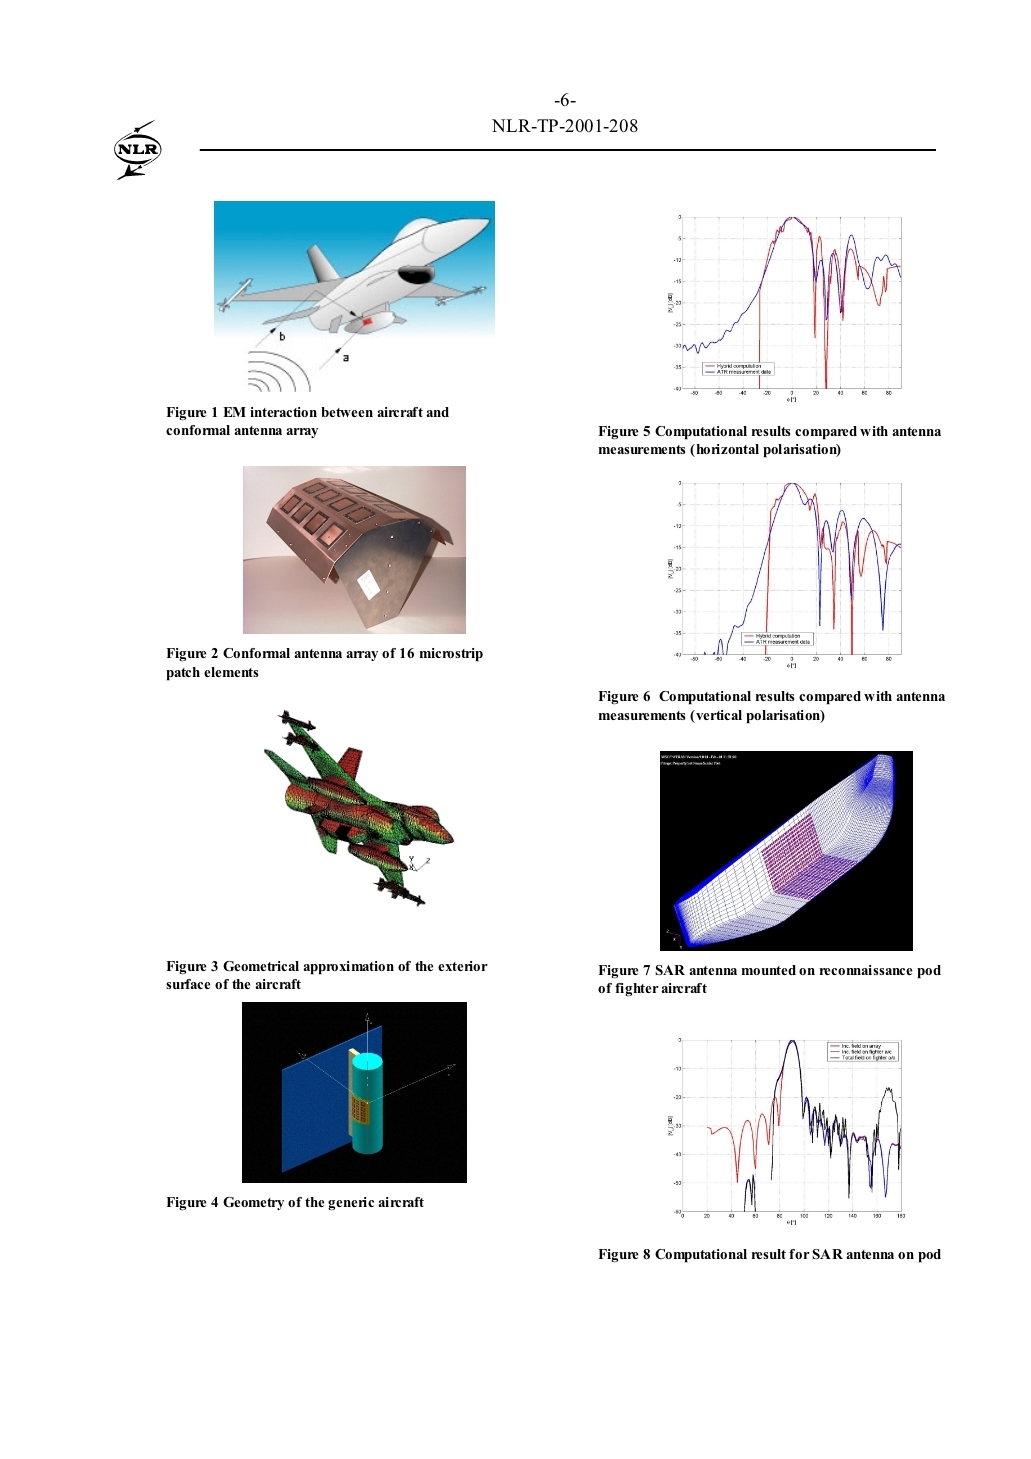figure: (214, 200, 494, 392), (661, 750, 912, 951), (668, 1037, 905, 1225), (668, 480, 900, 668), (668, 214, 900, 402), (242, 1001, 466, 1183), (264, 708, 454, 907), (243, 465, 465, 634), (114, 119, 161, 178)
